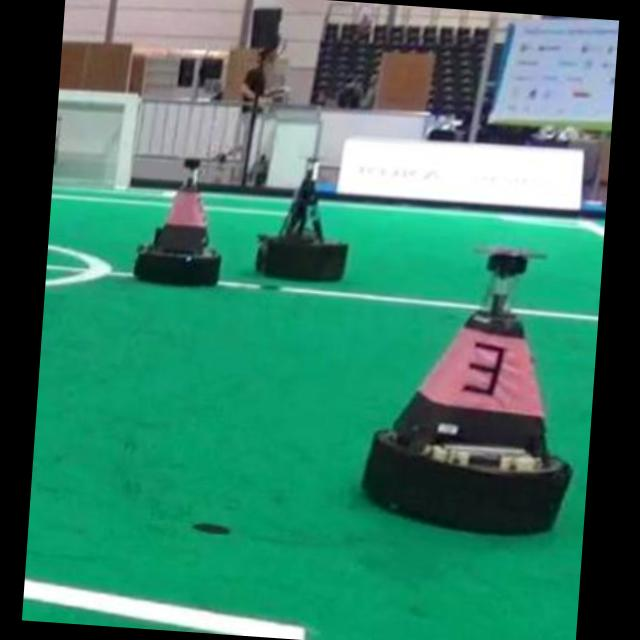goal: (113, 95, 137, 186)
robot: (363, 249, 572, 533), (134, 159, 219, 284), (256, 167, 346, 279)
